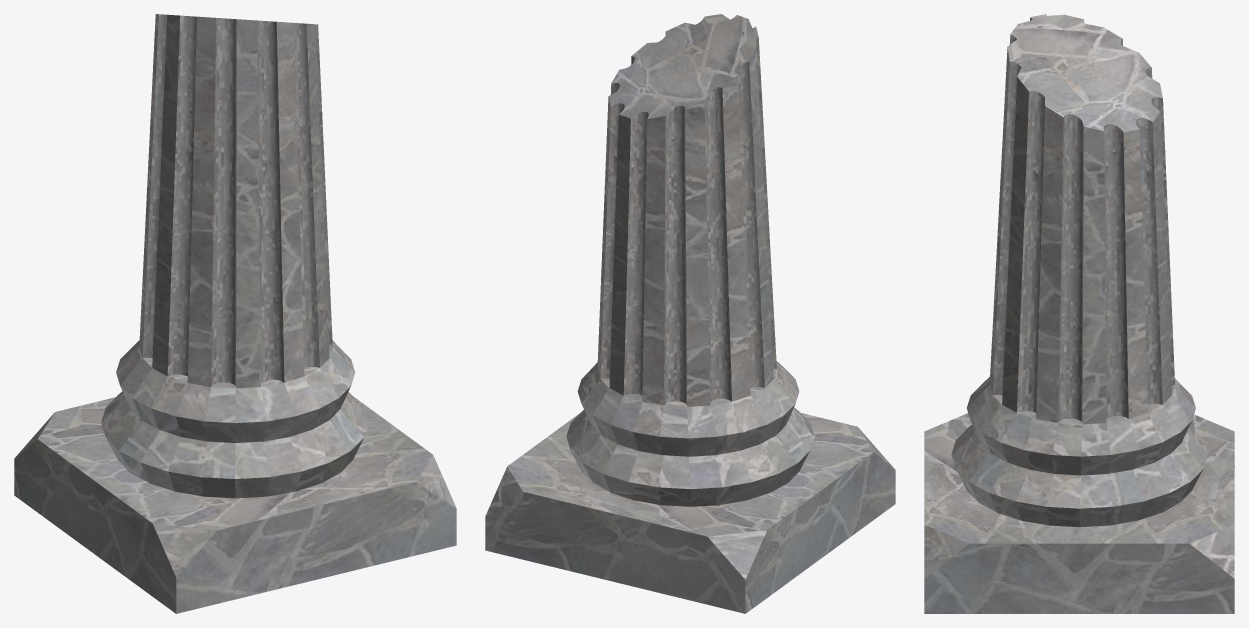
File: Pillar Half.fbx
3 views of the same model, side by side, from view 1: azimuth 30°, elevation 25°; view 2: azimuth 150°, elevation 25°; view 3: azimuth 270°, elevation 25° (orthographic). The views are drawn at different scales.
Parts seen in each view (by area): view 1: Model; view 2: Model; view 3: Model.
Part boxes in pixels (left/top/right/bottom): Model: left=14, top=14, right=456, bottom=613; Model: left=485, top=14, right=895, bottom=613; Model: left=924, top=14, right=1234, bottom=613.
Size of the model in its own units: 48 by 87.01 by 48.
